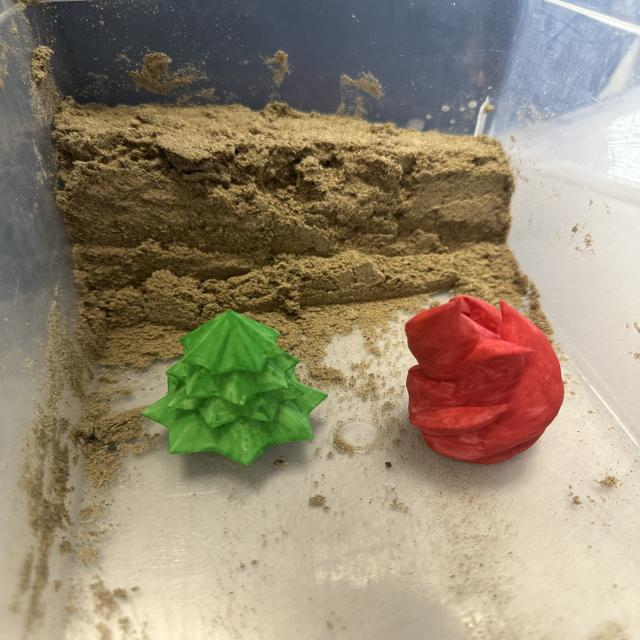fire: (402, 294, 565, 465)
tree: (140, 308, 328, 467)
